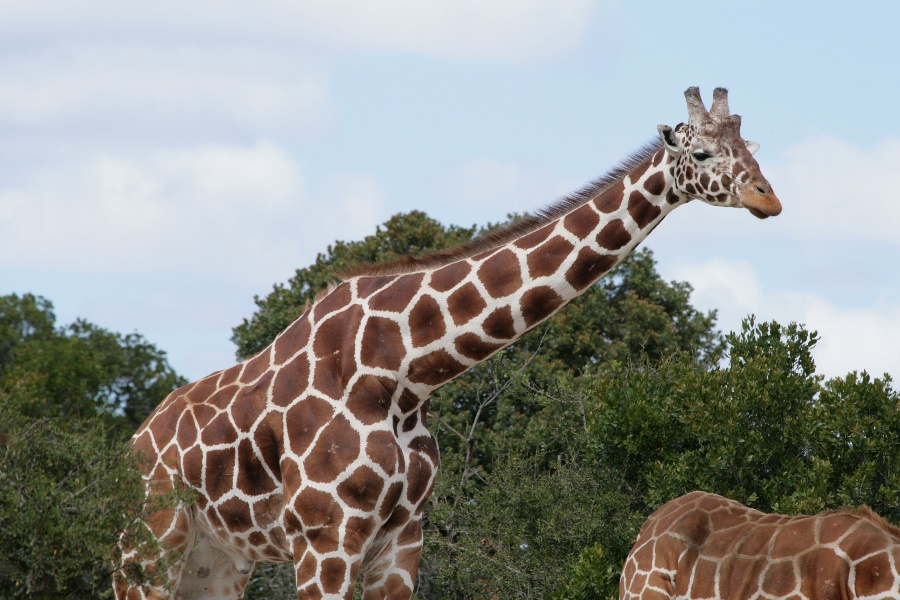giraffe: (97, 74, 789, 598), (609, 484, 899, 598)
